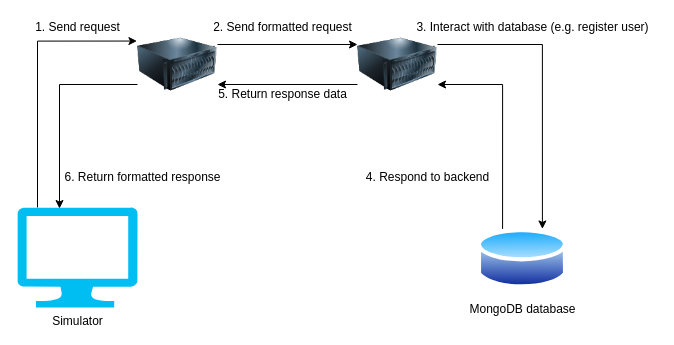
Some shapes in this 674 by 345 pixel diagram are drawn without their labels. Here are the shapes that lost their labels. From the top down, the box of each, then its label:
(137, 24, 217, 104): Simulator API
(357, 24, 437, 104): Spring-backend
